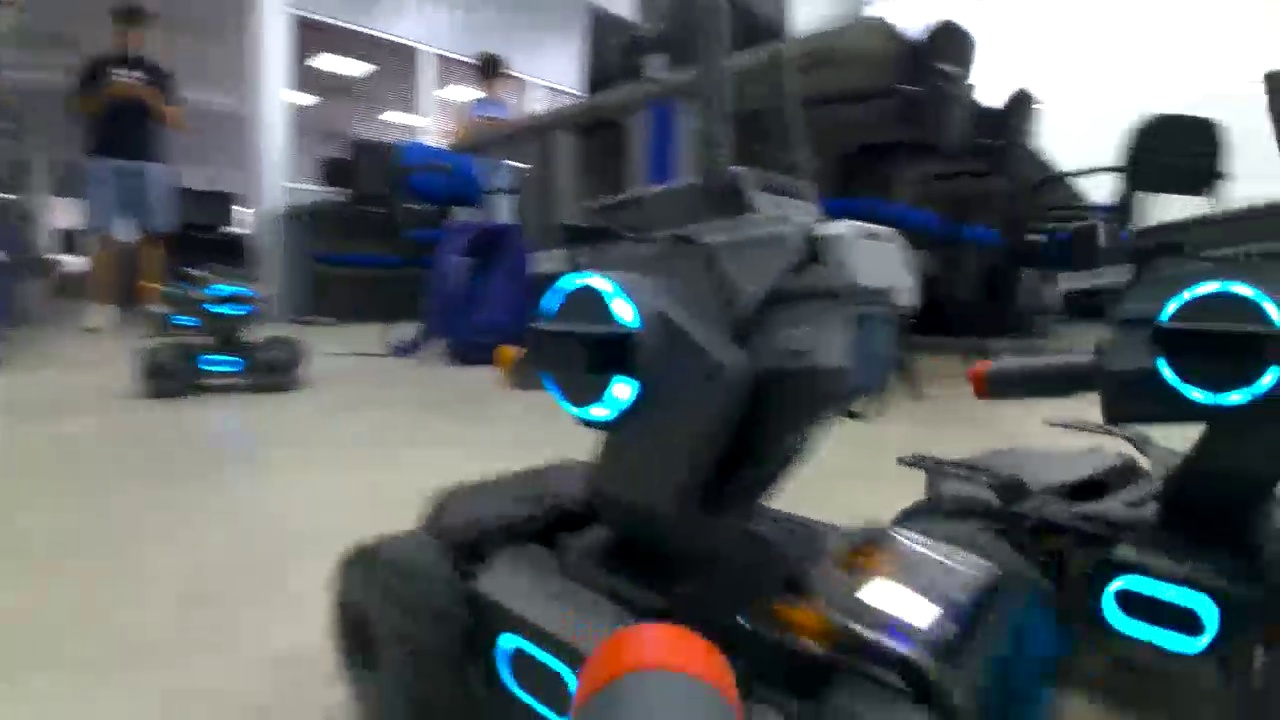robot: (312, 145, 1042, 720), (881, 190, 1280, 720), (133, 251, 309, 400)
